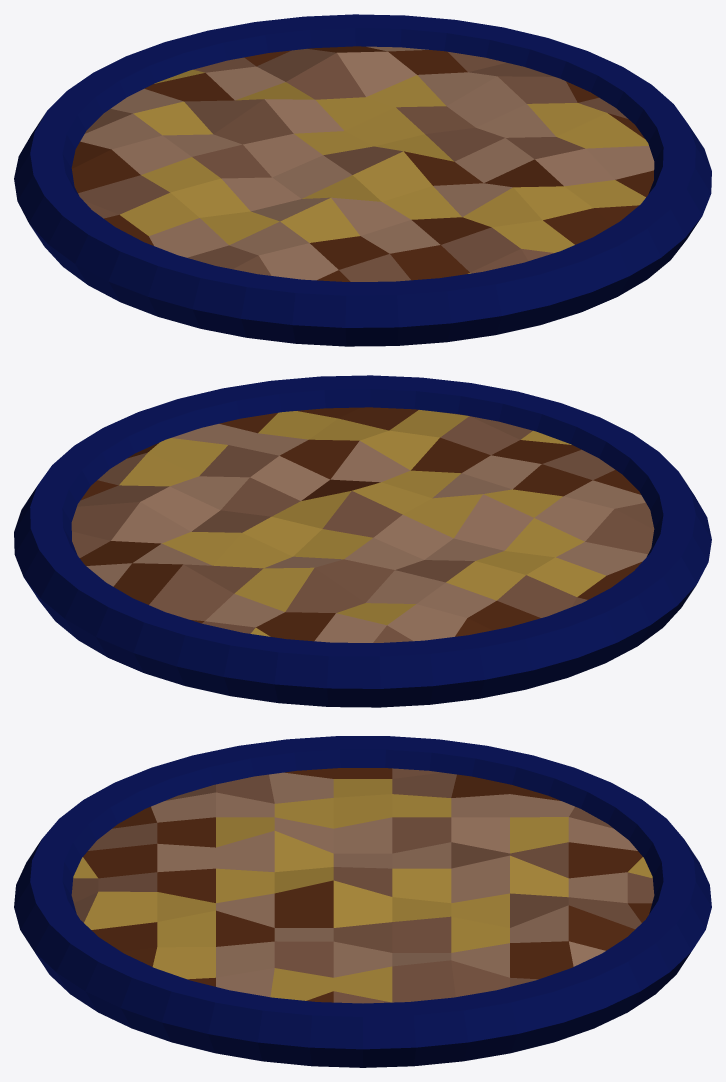
The model's file is SM_Tree_Base.fbx.
3 views of the same model, one above another, from view 1: azimuth 30°, elevation 25°; view 2: azimuth 150°, elevation 25°; view 3: azimuth 270°, elevation 25° (orthographic).
Visible parts, largest first — view 1: Tree_Base; view 2: Tree_Base; view 3: Tree_Base.
Part boxes in pixels (x1,y1,x2,y2): Tree_Base: (14,14,711,346); Tree_Base: (14,375,711,707); Tree_Base: (14,736,711,1067).
Size of the model in its own units: 204 by 19.11 by 204.
